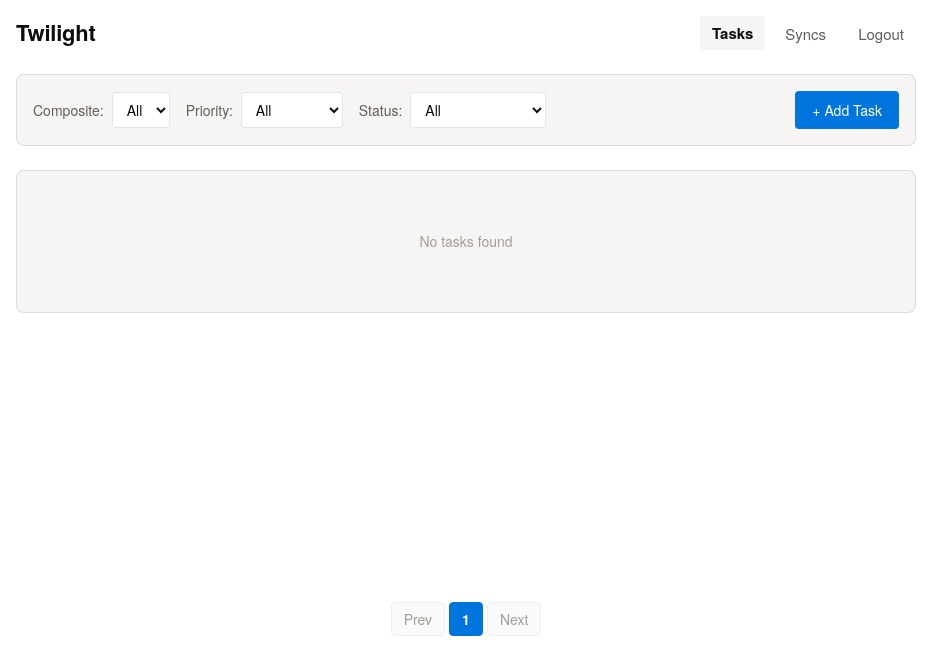
Dashboard › switches to the syncs tab
Expected: the text "No tasks found" is shown, x1=16 y1=170 x2=916 y2=313
Click the button "Syncs" at point(806, 33), box x1=773 y1=16 x2=838 y2=50
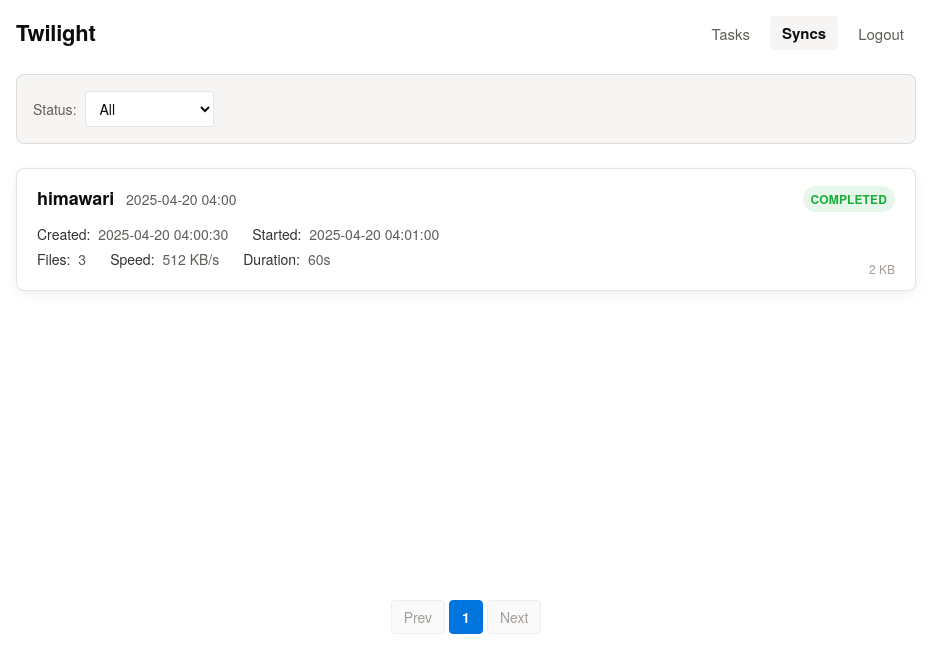
Expected: the text "himawari" is shown, x1=37 y1=185 x2=114 y2=212
Expected: the text "2 KB" is shown, x1=869 y1=260 x2=895 y2=278
